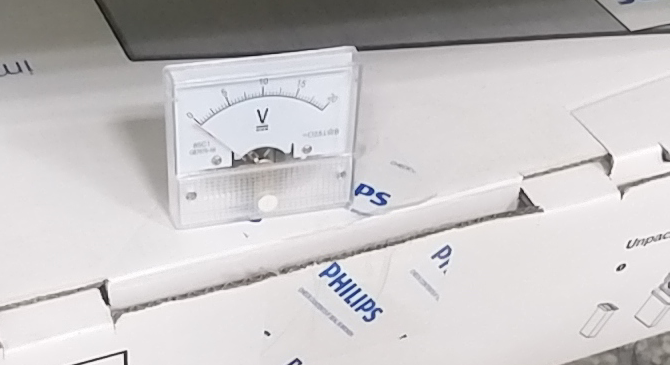Volt_Meter: (175, 50, 354, 184)
